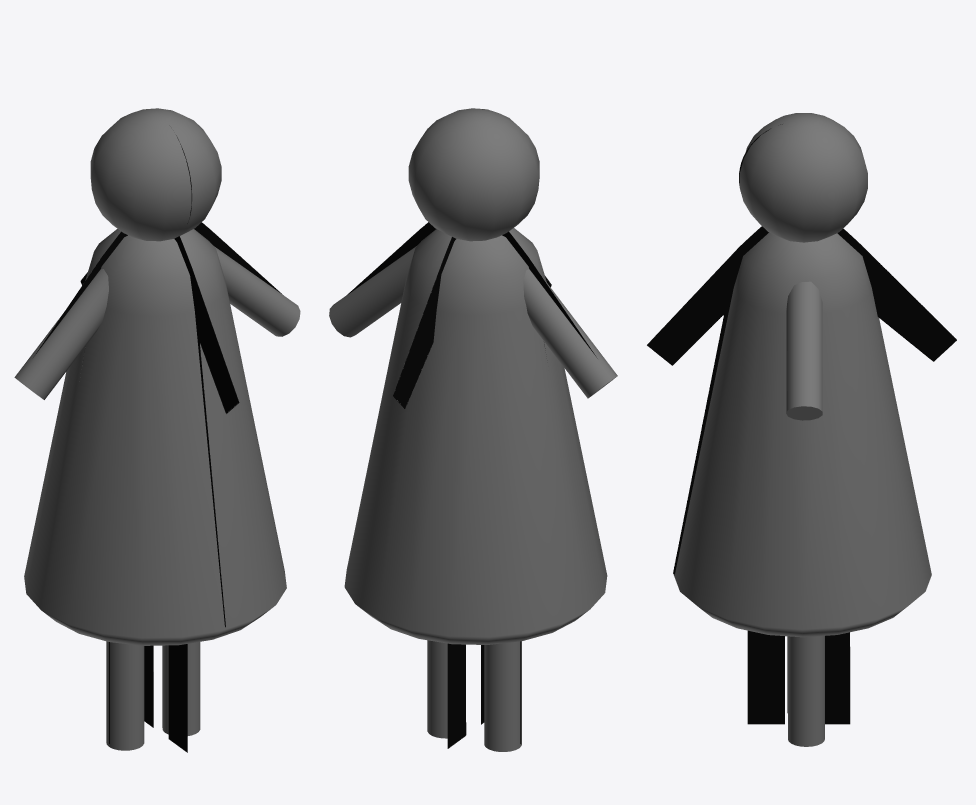
Rendered from P_Woman.fbx.
3 views of the same model, side by side, from view 1: azimuth 30°, elevation 25°; view 2: azimuth 150°, elevation 25°; view 3: azimuth 270°, elevation 25° (orthographic). The views are drawn at different scales.
Visible parts, largest first — view 1: hp_woman2, bb_woman; view 2: hp_woman2, bb_woman; view 3: hp_woman2, bb_woman.
Part boxes in pixels (x1,y1,x2,y2): hp_woman2: [14, 108, 300, 750]; bb_woman: [33, 135, 283, 752]; hp_woman2: [329, 108, 617, 751]; bb_woman: [346, 109, 597, 748]; hp_woman2: [673, 113, 931, 746]; bb_woman: [647, 123, 956, 724].
Size of the model in its own units: 71.64 by 161 by 71.
